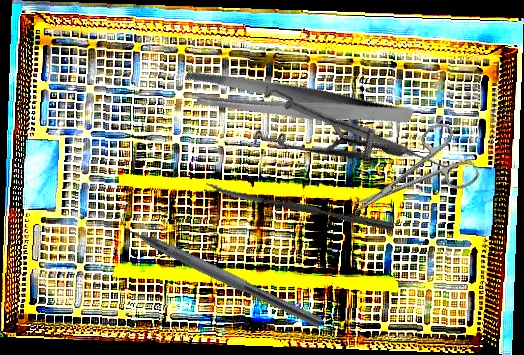Chopper: (106, 204, 330, 329)
Dressing Forceps: (178, 21, 415, 183)
Iris Scissors: (336, 116, 482, 238)
Pusher: (284, 98, 454, 175)
Speculum: (231, 45, 408, 224)
Surgical Spoon: (204, 182, 395, 231)
